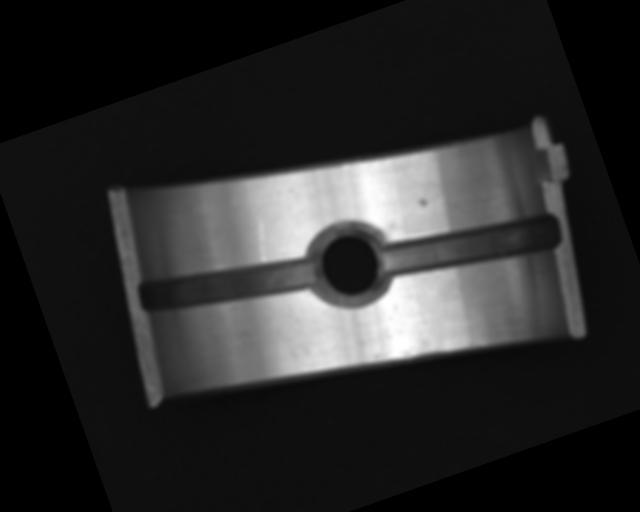bruise: (416, 197, 429, 209)
gap: (135, 226, 321, 342), (377, 191, 565, 303)
hole: (297, 211, 399, 319)
nick: (248, 216, 276, 263)
